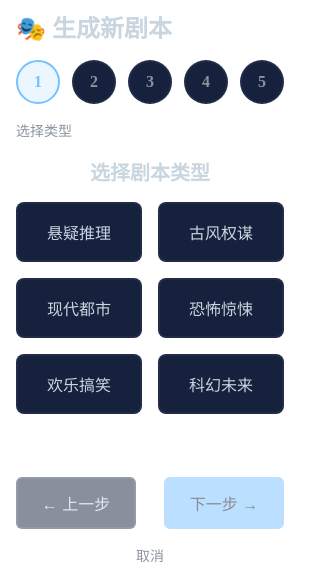
it: ScriptGenerateWizard › Step 2 - Difficulty Selection › renders step 2 difficulty selection when navigated
The image size is (320, 579).
Note: Navigate to step 2 by selecting a genre first
What coordinates should you click on to do the following:
click the button "悬疑推理"
I would click on:
 (79, 232)
Its box is 16,202 -> 142,262.
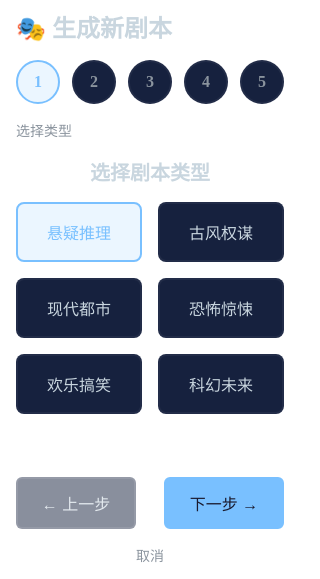
What coordinates should you click on to do the following:
click the button "下一步 →"
I would click on:
 (224, 503)
Its box is 164,477 -> 284,529.
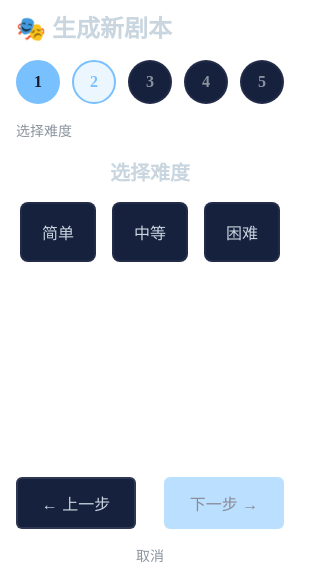
Expected: the heading "选择难度" is shown, 110,162 -> 190,184
